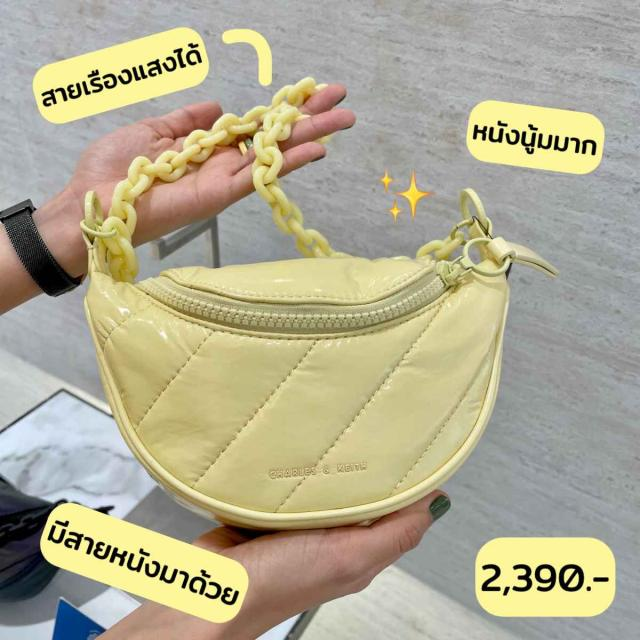Handbag: (64, 226, 532, 542)
